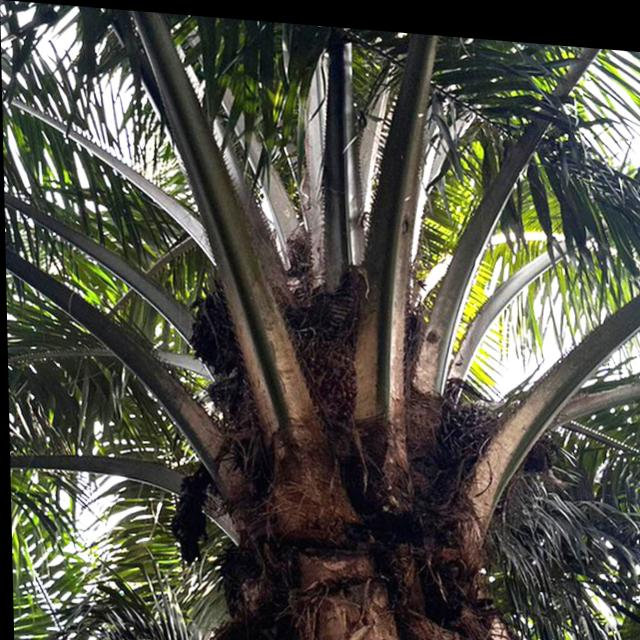ripe: (286, 309, 362, 421), (439, 386, 502, 442)
